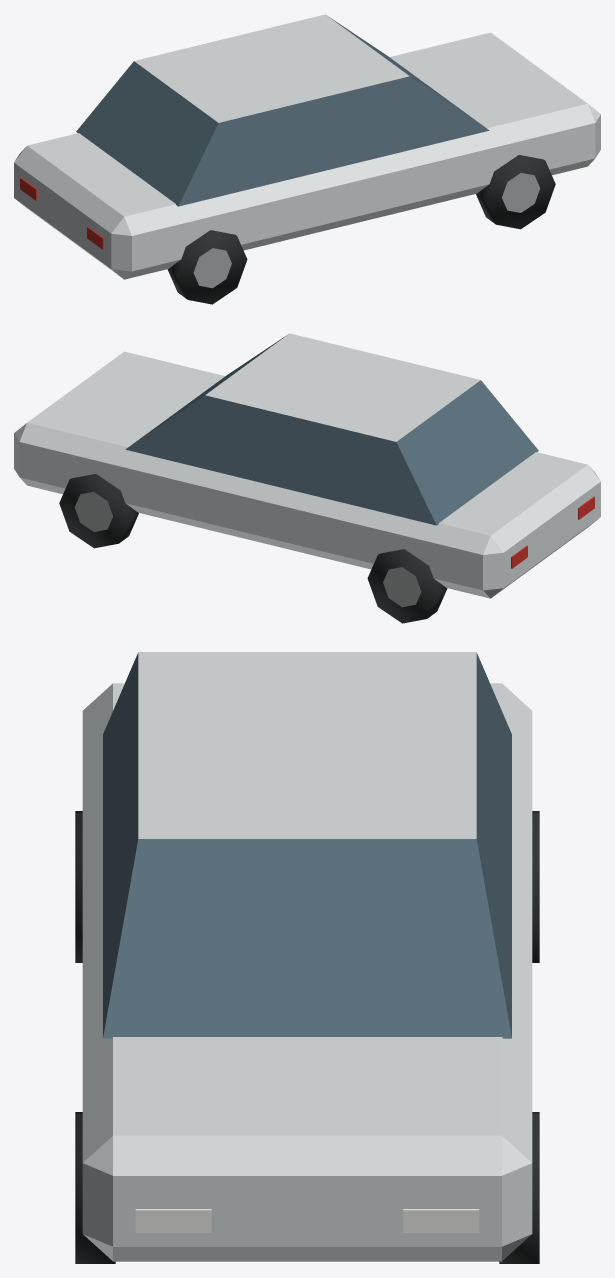
The model's file is SM_MPR3_Car_0_LOD2.fbx.
The picture shows the model from 3 angles, top to bottom: view 1: azimuth 30°, elevation 25°; view 2: azimuth 150°, elevation 25°; view 3: azimuth 270°, elevation 25°; orthographic projection. The views are drawn at different scales.
Visible parts, largest first — view 1: SM_MPR3_Car_0_LOD2; view 2: SM_MPR3_Car_0_LOD2; view 3: SM_MPR3_Car_0_LOD2.
Part boxes in pixels (x1=…): SM_MPR3_Car_0_LOD2: x1=14, y1=14, x2=600, y2=304; SM_MPR3_Car_0_LOD2: x1=14, y1=333, x2=600, y2=623; SM_MPR3_Car_0_LOD2: x1=75, y1=652, x2=539, y2=1263.
Bounding box in the file's own units: 450 × 185 × 144.
